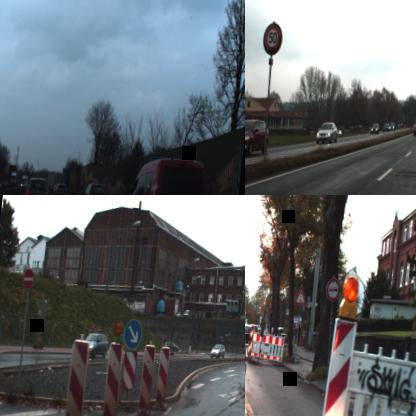NO ENTRY: (22, 266, 34, 289)
keep right: (122, 318, 143, 350)
no overtaking (trucks): (324, 276, 341, 302)
speed limit 50: (263, 24, 281, 52)
traffic signal: (294, 283, 308, 306)
